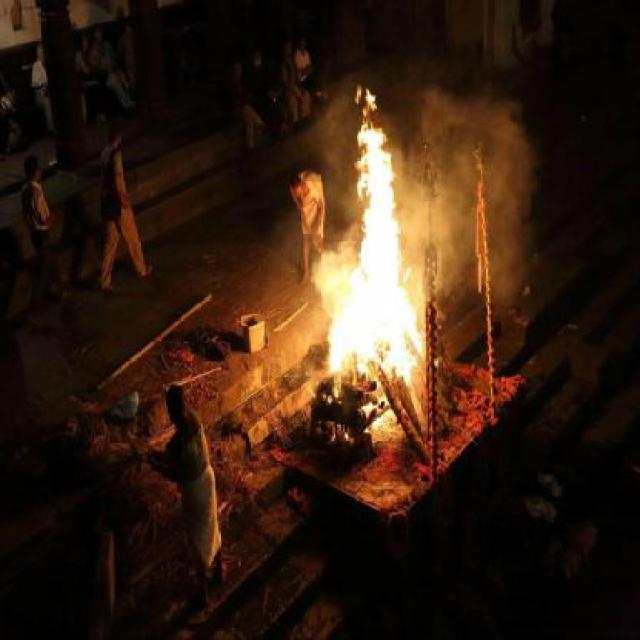Fire: (318, 82, 428, 390)
